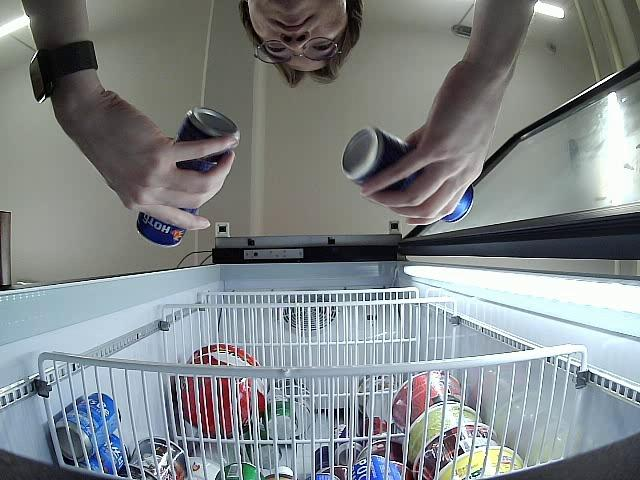00_hand: (359, 58, 507, 224), (59, 94, 234, 232)
16_hot6: (133, 108, 242, 248), (342, 127, 473, 223)
